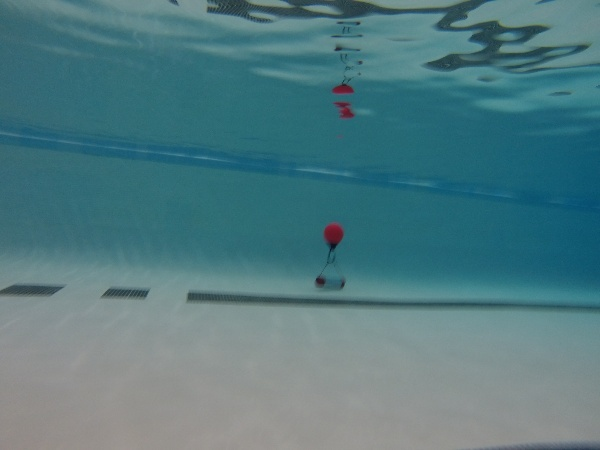buoy_red: (322, 221, 345, 252)
